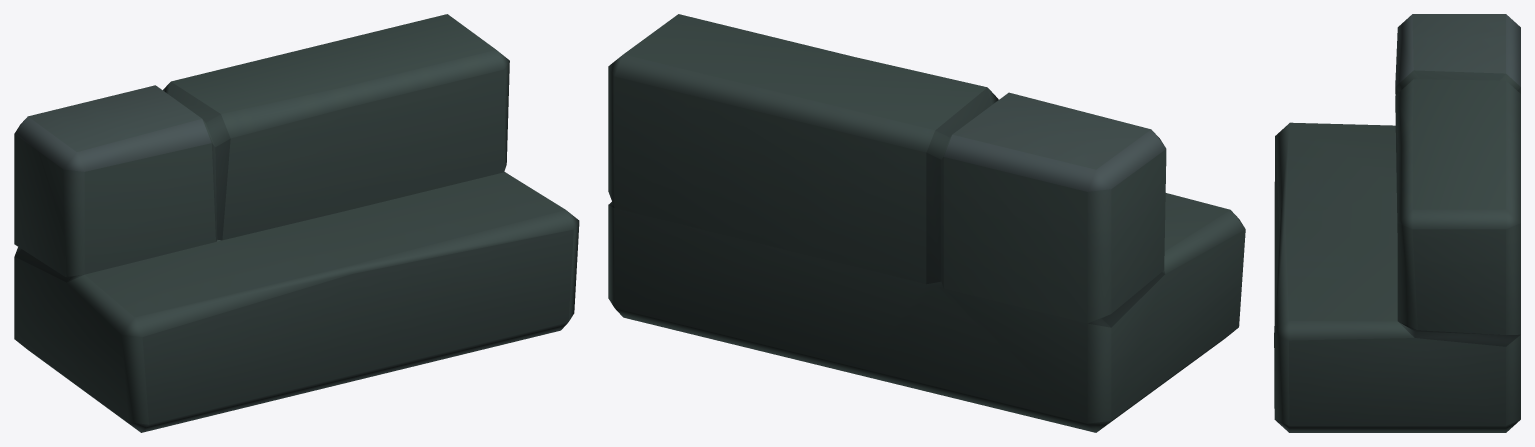
File: undead_stairs_half_2_shade_4.fbx
3 renders of one model, left to right at view 1: azimuth 30°, elevation 25°; view 2: azimuth 150°, elevation 25°; view 3: azimuth 270°, elevation 25°, orthographic. The views are drawn at different scales.
Visible parts, largest first — view 1: undead_stairs_half_2_shade_4; view 2: undead_stairs_half_2_shade_4; view 3: undead_stairs_half_2_shade_4.
Boxes of the visible parts, bbox=[...] form: undead_stairs_half_2_shade_4: bbox=[14, 14, 579, 432]; undead_stairs_half_2_shade_4: bbox=[608, 14, 1245, 432]; undead_stairs_half_2_shade_4: bbox=[1274, 14, 1520, 432].
Size of the model in its own units: 1.02 by 0.5051 by 0.501.
